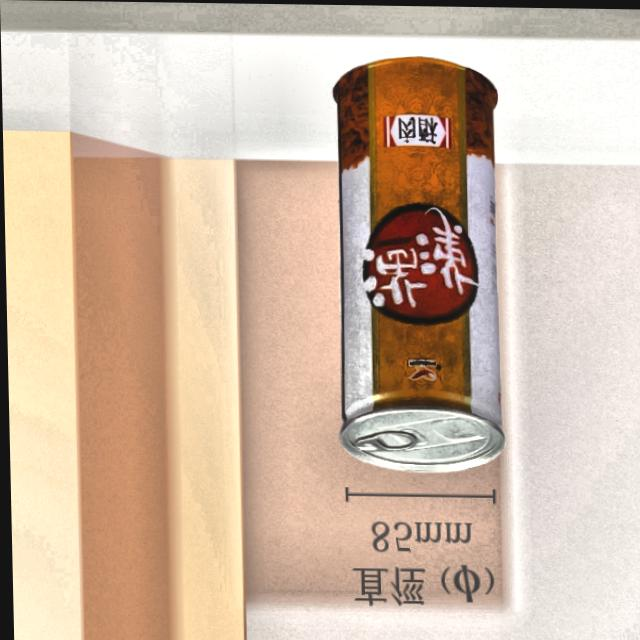can: (327, 56, 513, 476)
